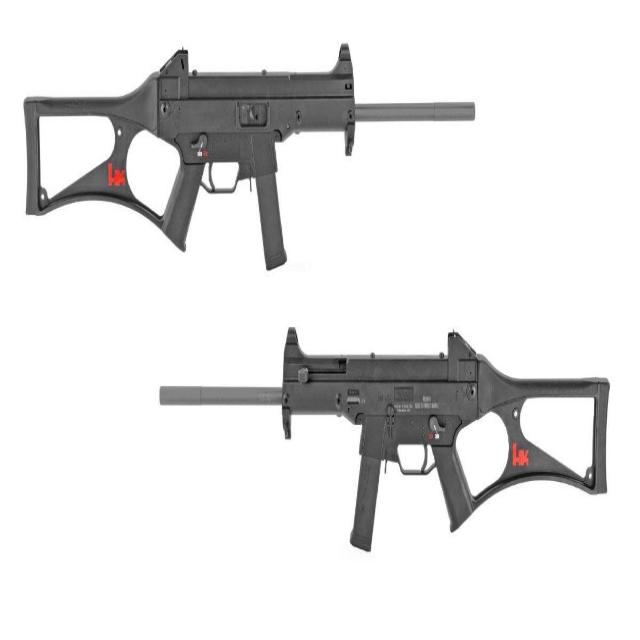SMG: (159, 328, 612, 553), (24, 47, 476, 271)
